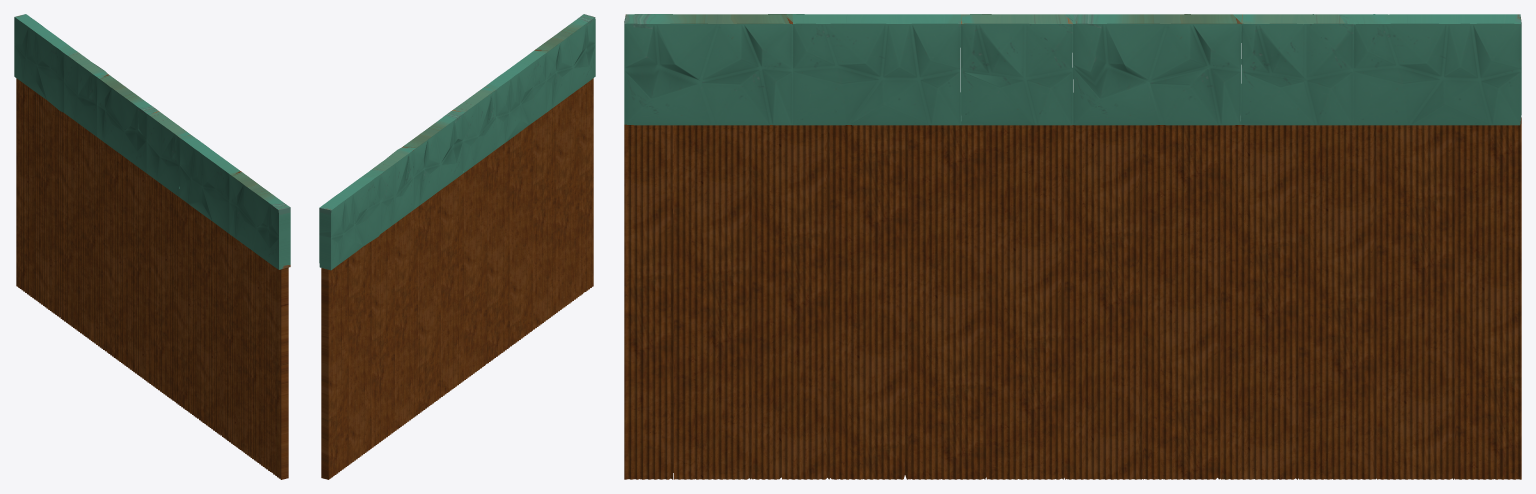
The model's file is SM_Office_wall01g.fbx.
The picture shows the model from 3 angles, left to right: view 1: azimuth 30°, elevation 25°; view 2: azimuth 150°, elevation 25°; view 3: azimuth 270°, elevation 25°; orthographic projection. The views are drawn at different scales.
Visible parts, largest first — view 1: SM_Office_wall01g_LOD0; view 2: SM_Office_wall01g_LOD0; view 3: SM_Office_wall01g_LOD0.
Boxes of the visible parts, x1,y1,x2,y2 form: SM_Office_wall01g_LOD0: (14, 14, 290, 479); SM_Office_wall01g_LOD0: (319, 14, 595, 479); SM_Office_wall01g_LOD0: (624, 14, 1521, 479).
Bounding box in the file's own units: 24.8 × 800 × 451.
